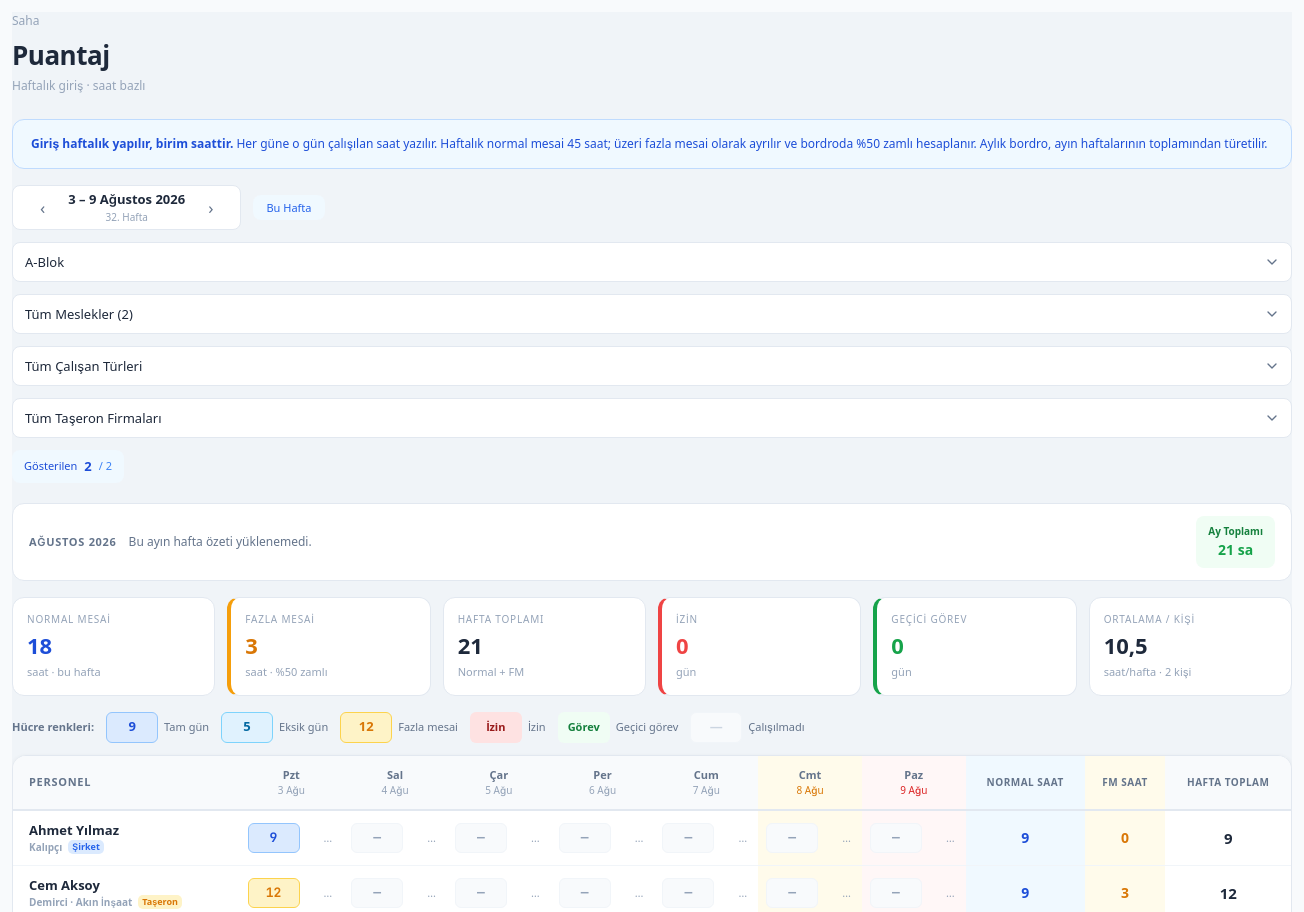
GeneralTimesheetView · E5 satır süzgeçleri (100-127) › taşeron süzgeci firma adından süzer
The image size is (1304, 912).
Select "Akın İnşaat" in the dropdown named "Taşeron firması" at (652, 418), box [12, 398, 1292, 438]
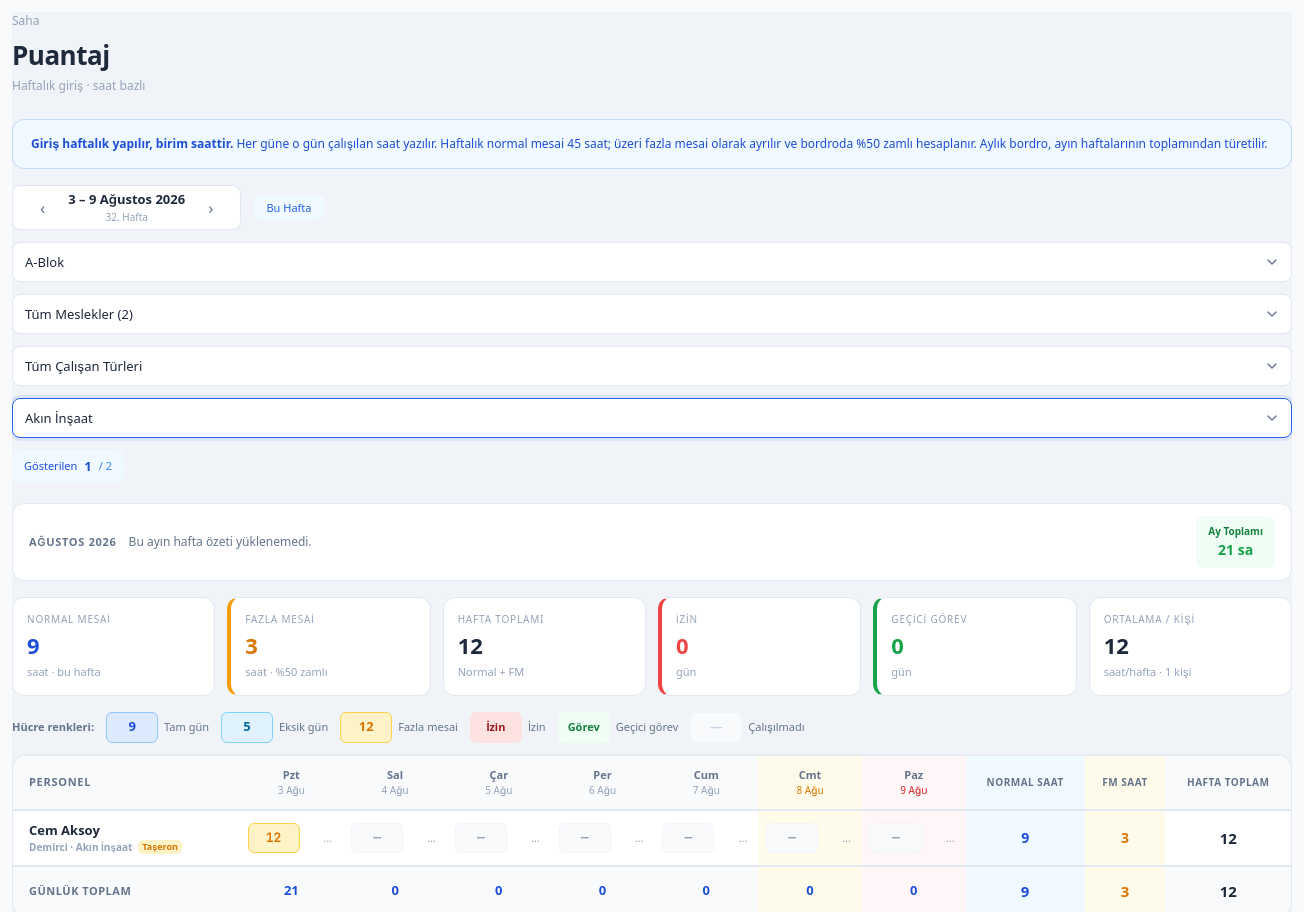
Expected: the text "Cem Aksoy" is shown, [29, 820, 100, 838]
Expected: the text "Ahmet Yılmaz" is gone
